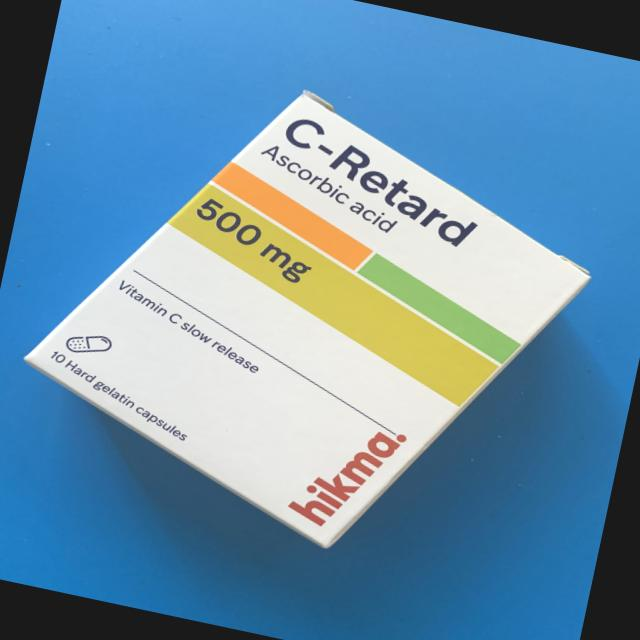medicine_packaging: (0, 37, 635, 610)
